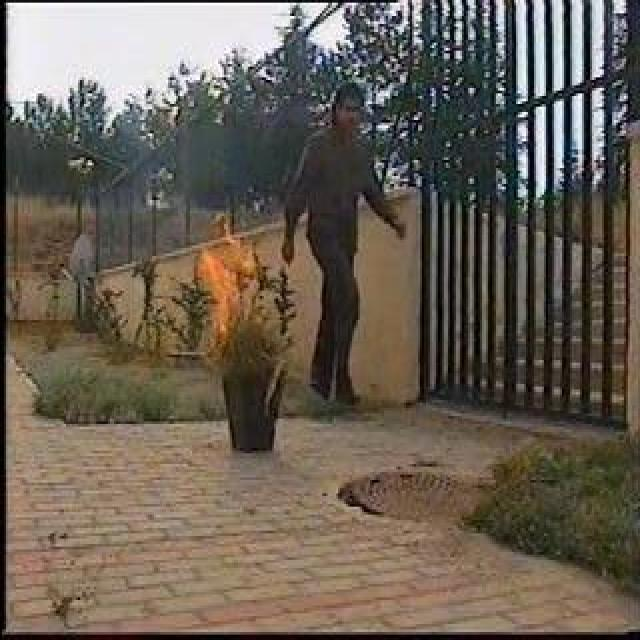fire: (190, 225, 258, 340)
